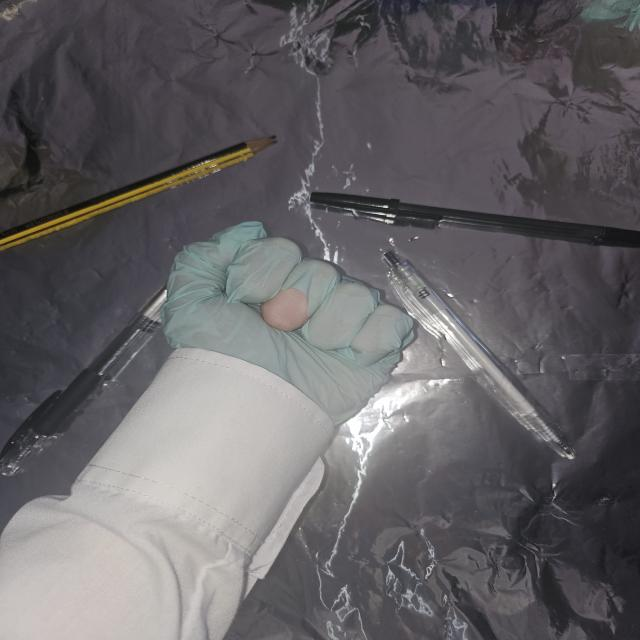gloves_damaged: (156, 218, 419, 428)
